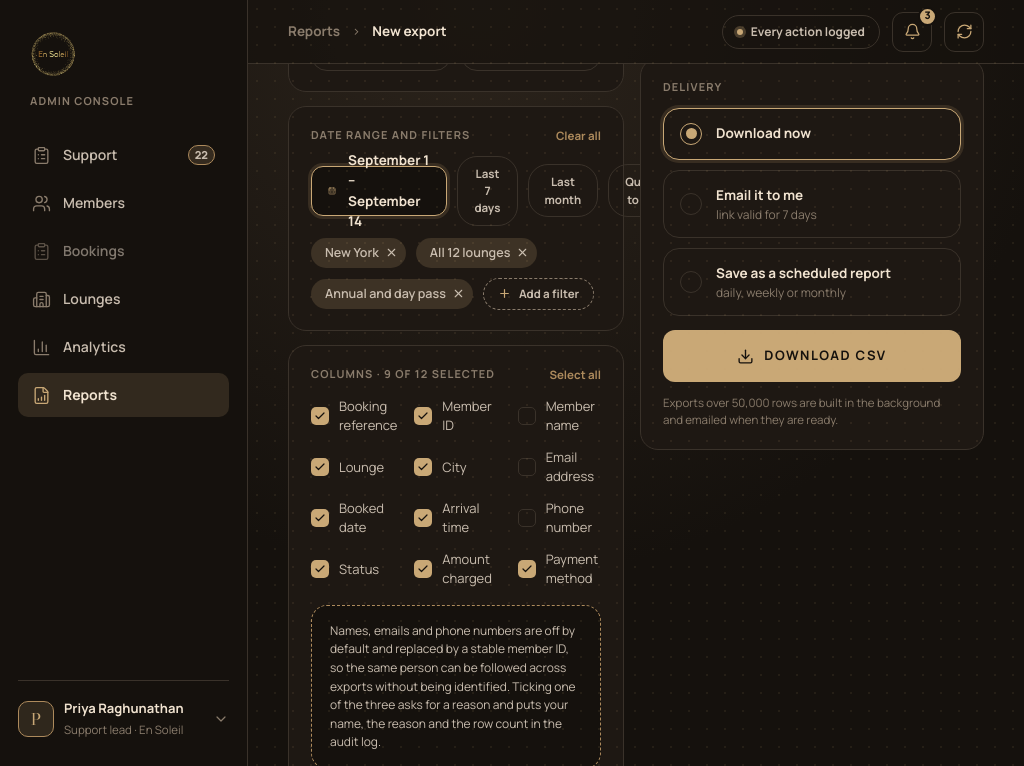
Test: Export data (/admin/reports) › requires a reason before a personal column can be included
(page scrolled)
Click the checkbox labelled "Member name". click: x=559, y=416
box: [518,397,601,436]
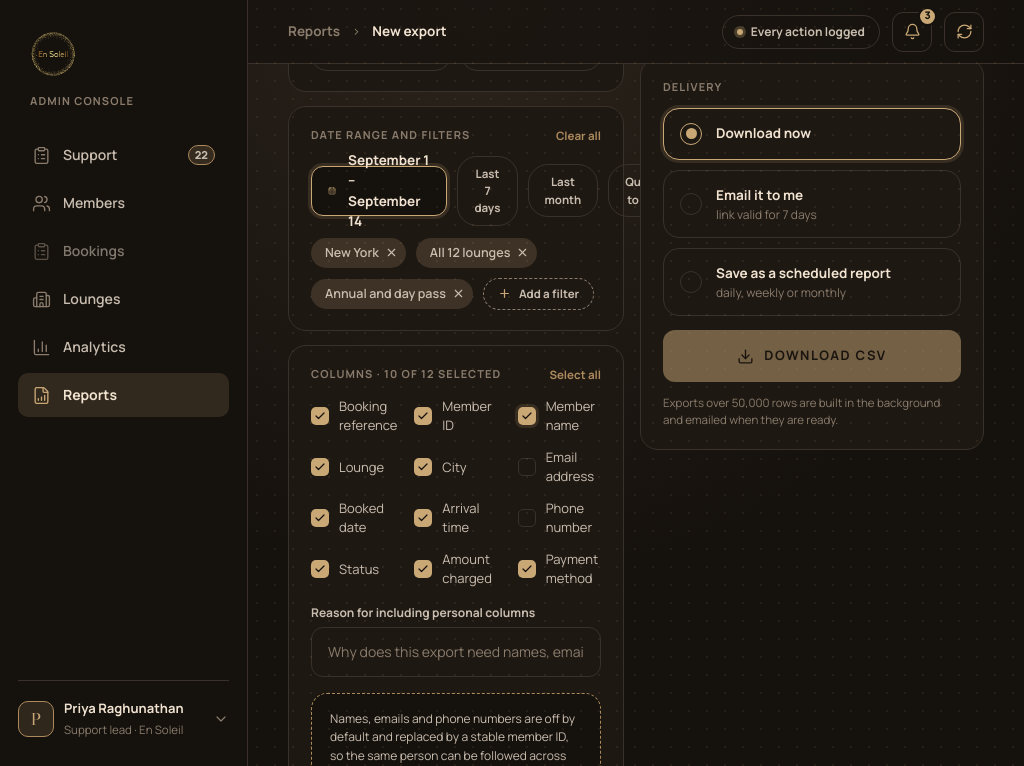
Now the field labelled "Reason for including personal columns" is shown
Now the button "Download CSV" is disabled, box [663,330,961,382]
Type "Finance audit request" into the field labelled "Reason for including personal columns". click: x=456, y=652
box: [311,627,601,677]
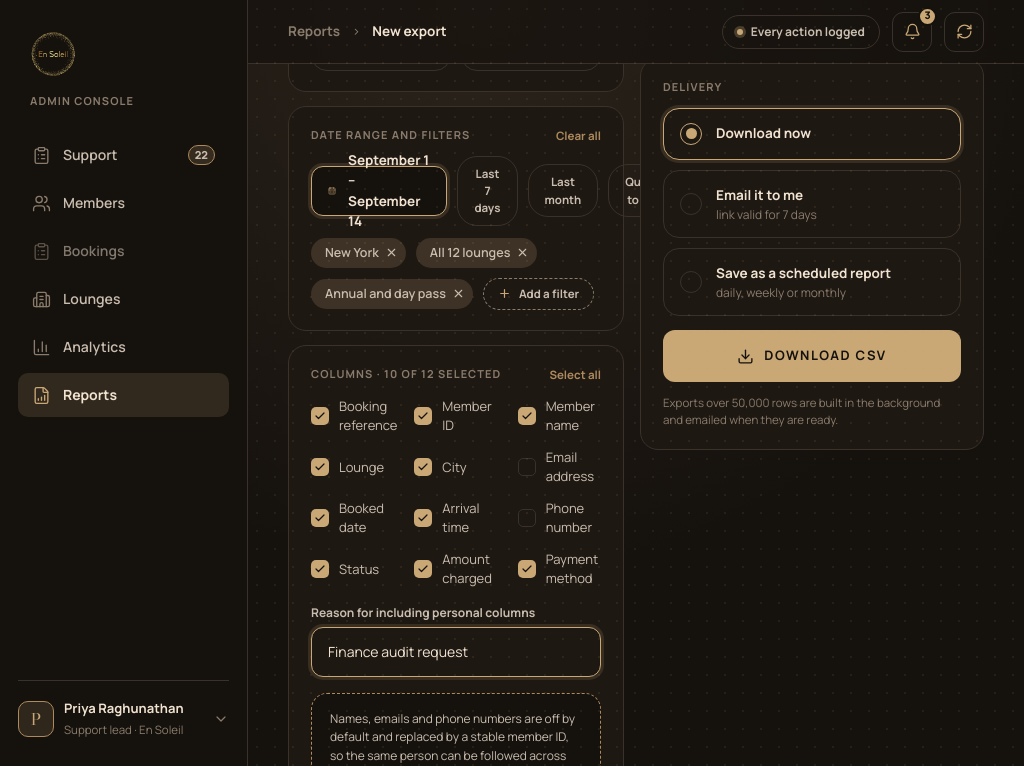
Now the button "Download CSV" is enabled, box [663,330,961,382]
